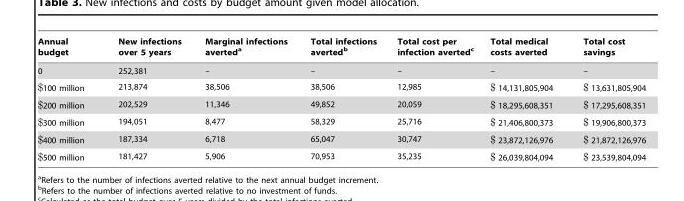table: (37, 36, 645, 161)
table column: (192, 36, 298, 161), (386, 36, 481, 161), (100, 36, 192, 161), (298, 36, 386, 161), (481, 36, 567, 161), (567, 36, 645, 161), (37, 36, 100, 161)
table column header: (37, 36, 645, 61)
table row: (37, 36, 645, 61), (37, 95, 645, 113), (37, 61, 645, 78), (37, 78, 645, 95), (37, 113, 645, 130), (37, 130, 645, 147), (37, 147, 645, 161)
